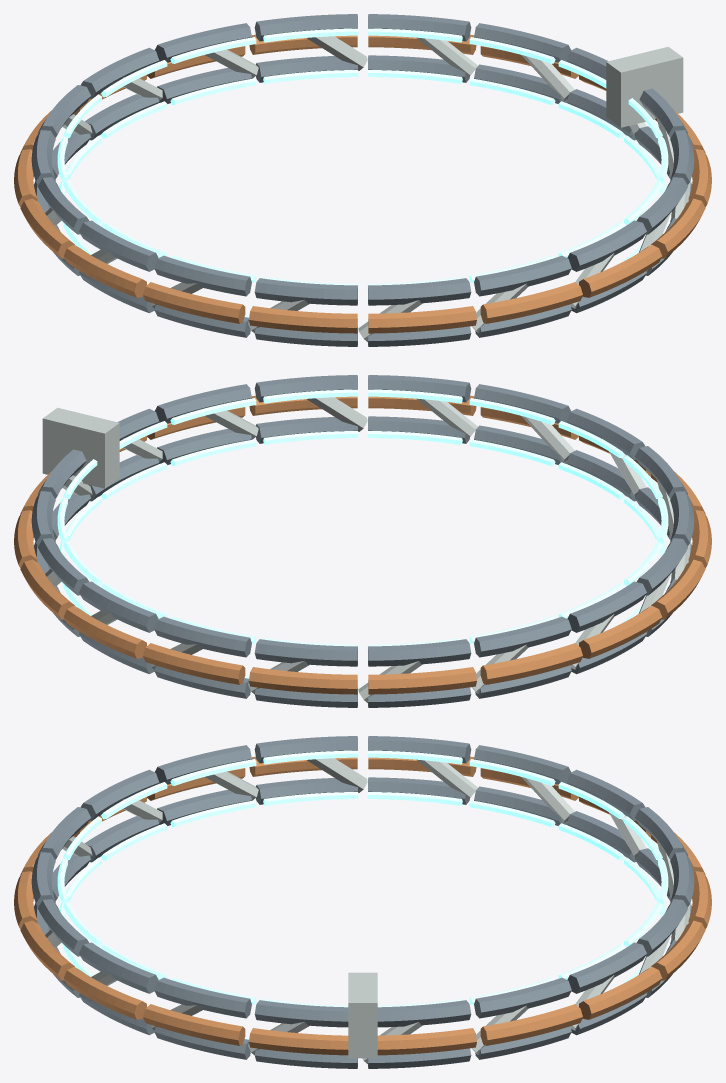
File: Gungnir.glb
3 renders of one model, top to bottom at view 1: azimuth 30°, elevation 25°; view 2: azimuth 150°, elevation 25°; view 3: azimuth 270°, elevation 25°, orthographic.
Parts seen in each view (by area): view 1: Module12, Module03, Module11, Module02, Module13, Module10, Module01, Module04, Module14, Module09, SlidingGate, Module05 (+7 smaller); view 2: Module06, Module15, Module05, Module14, Module07, Module04, Module13, Module16, Module08, Module03, Module12, SlidingGate (+7 smaller); view 3: Module09, Module08, Module01, Module16, Module00, Module17, Module07, Module10, Module02, Module15, Module06, Module11 (+7 smaller).
Part boxes in pixels (left/top/right/bottom): Module12: left=358, top=277, right=476, bottom=346; Module03: left=249, top=14, right=367, bottom=83; Module11: left=248, top=277, right=358, bottom=346; Module02: left=367, top=14, right=477, bottom=83; Module13: left=469, top=255, right=582, bottom=337; Module10: left=143, top=255, right=256, bottom=337; Module01: left=469, top=23, right=578, bottom=105; Module04: left=147, top=23, right=258, bottom=105; Module14: left=558, top=220, right=662, bottom=313; Module09: left=63, top=220, right=167, bottom=313; SlidingGate: left=606, top=46, right=683, bottom=127; Module05: left=75, top=47, right=167, bottom=140; Module06: left=358, top=638, right=476, bottom=707; Module15: left=249, top=375, right=367, bottom=444; Module05: left=248, top=638, right=358, bottom=707; Module14: left=367, top=375, right=477, bottom=444; Module07: left=469, top=616, right=582, bottom=698; Module04: left=143, top=616, right=256, bottom=698; Module13: left=469, top=384, right=578, bottom=466; Module16: left=147, top=384, right=258, bottom=466; Module08: left=558, top=581, right=662, bottom=674; Module03: left=63, top=581, right=167, bottom=674; Module12: left=558, top=408, right=650, bottom=501; SlidingGate: left=42, top=407, right=119, bottom=488; Module09: left=249, top=736, right=367, bottom=805; Module08: left=367, top=736, right=477, bottom=805; Module01: left=469, top=977, right=582, bottom=1059; Module16: left=143, top=977, right=256, bottom=1059; Module00: left=362, top=999, right=476, bottom=1068; Module17: left=248, top=999, right=357, bottom=1068; Module07: left=469, top=745, right=578, bottom=827; Module10: left=147, top=745, right=258, bottom=827; Module02: left=558, top=942, right=662, bottom=1035; Module15: left=63, top=942, right=167, bottom=1035; Module06: left=558, top=769, right=650, bottom=862; Module11: left=75, top=769, right=167, bottom=862.
Size of the model in its own units: 8.4 by 1.05 by 8.26.
